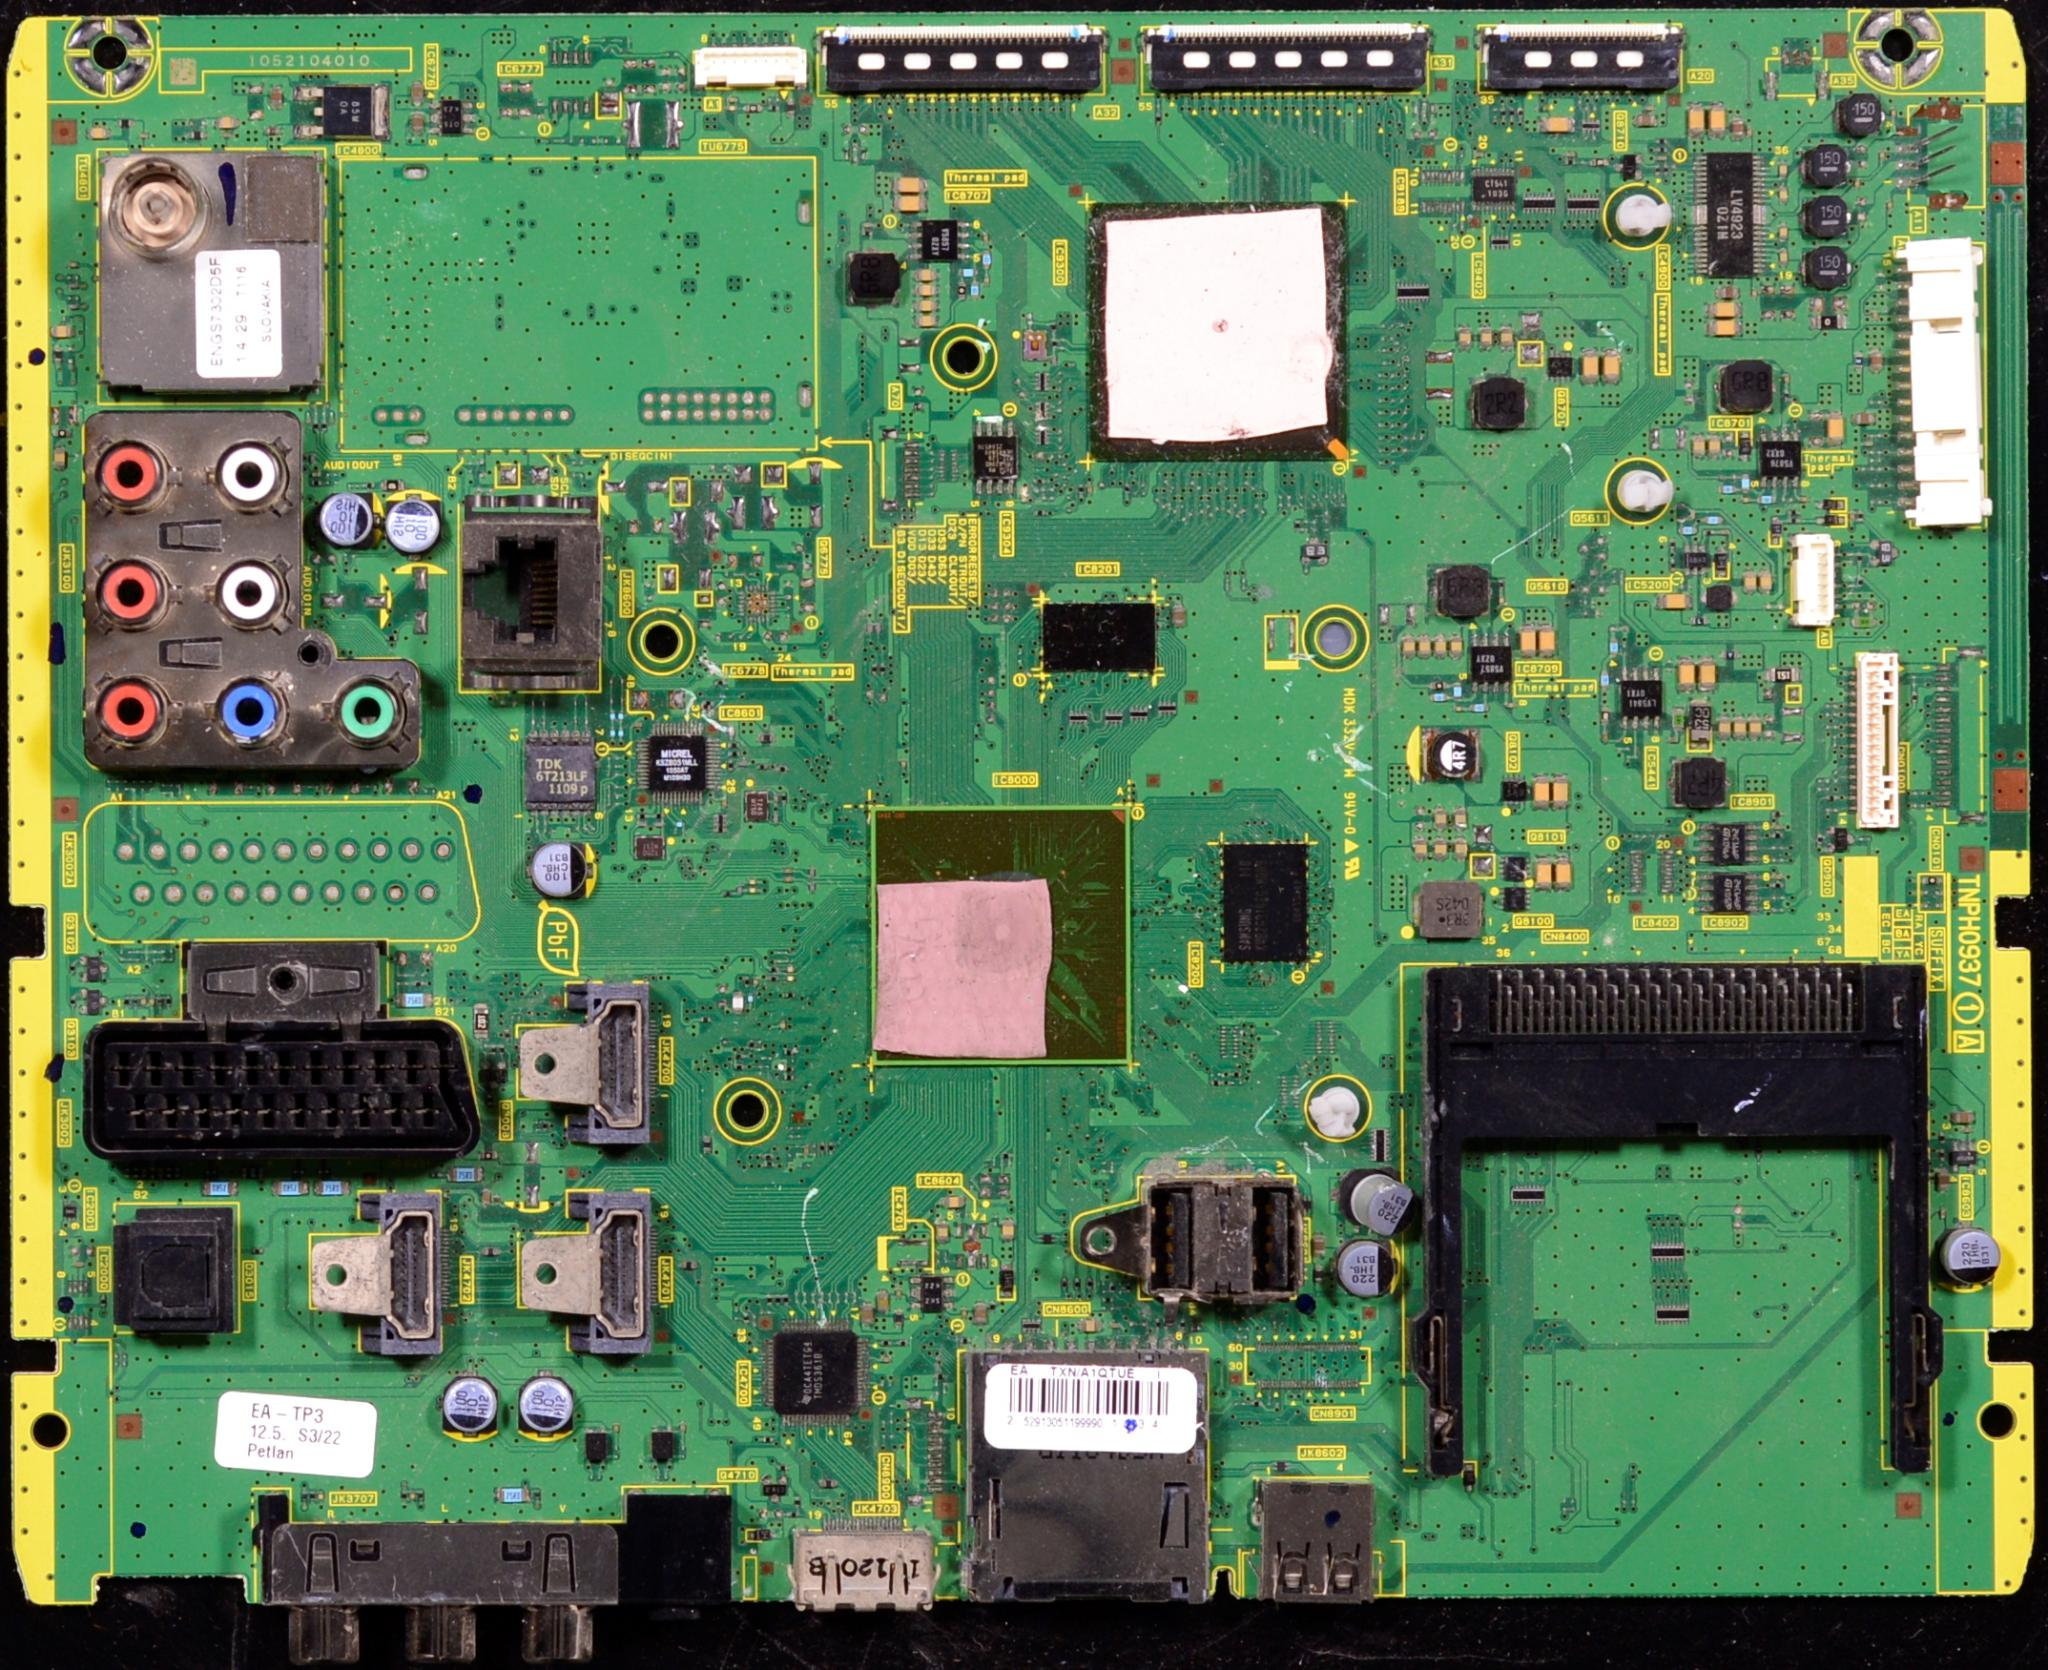Capacitor Jumper: (1352, 1168, 1422, 1238), (1941, 1226, 2002, 1287), (1339, 1243, 1400, 1298), (517, 1376, 572, 1437), (383, 495, 437, 553), (532, 842, 587, 900), (442, 1374, 497, 1430), (320, 493, 371, 551), (1539, 112, 1577, 136), (1706, 315, 1742, 337), (1517, 622, 1539, 658), (1686, 104, 1710, 136), (893, 190, 927, 213), (1823, 413, 1847, 444), (1704, 299, 1742, 318), (1580, 347, 1601, 381), (1658, 590, 1692, 611), (1674, 656, 1696, 687), (1551, 775, 1572, 808), (1553, 855, 1573, 888), (1696, 658, 1718, 687), (1534, 774, 1551, 809), (1536, 854, 1555, 886), (1708, 105, 1728, 134), (1539, 622, 1556, 656), (1602, 350, 1621, 381), (1453, 323, 1475, 349), (895, 175, 925, 192), (1730, 714, 1750, 740), (1414, 631, 1432, 658), (1398, 629, 1415, 658), (1432, 806, 1453, 830), (1757, 568, 1776, 594), (1718, 716, 1737, 741), (1747, 716, 1764, 741), (1691, 432, 1706, 459), (995, 1218, 1014, 1240), (1078, 1315, 1101, 1333), (915, 265, 937, 284), (915, 279, 937, 298), (1476, 325, 1495, 347), (1744, 570, 1759, 595), (1434, 631, 1449, 656), (1449, 631, 1465, 656), (1429, 838, 1449, 857), (1451, 806, 1468, 828), (874, 1286, 888, 1313), (971, 1299, 987, 1323), (934, 1219, 949, 1241), (1497, 325, 1512, 347), (942, 1194, 966, 1207), (861, 1299, 874, 1323), (1706, 432, 1720, 456), (919, 310, 937, 327), (917, 298, 939, 311), (1415, 835, 1427, 859), (1453, 835, 1466, 855)
IC: (869, 801, 1136, 1065), (1084, 201, 1345, 459), (963, 1345, 1211, 1602), (1886, 240, 1983, 527), (760, 1320, 869, 1429), (1220, 840, 1311, 964), (1846, 651, 1900, 828), (1689, 151, 1762, 277), (1039, 600, 1153, 677), (634, 724, 723, 803), (1616, 665, 1667, 730), (973, 418, 1017, 491), (1694, 867, 1762, 913), (1466, 628, 1512, 694), (1755, 429, 1800, 488), (1698, 823, 1762, 862), (1471, 165, 1519, 206), (1681, 542, 1710, 577), (1764, 665, 1796, 679)
Resistor Jumper: (298, 85, 386, 138), (429, 97, 475, 134), (908, 1274, 954, 1311), (1764, 665, 1800, 680), (1769, 519, 1783, 544)
iC: (907, 219, 970, 260)
